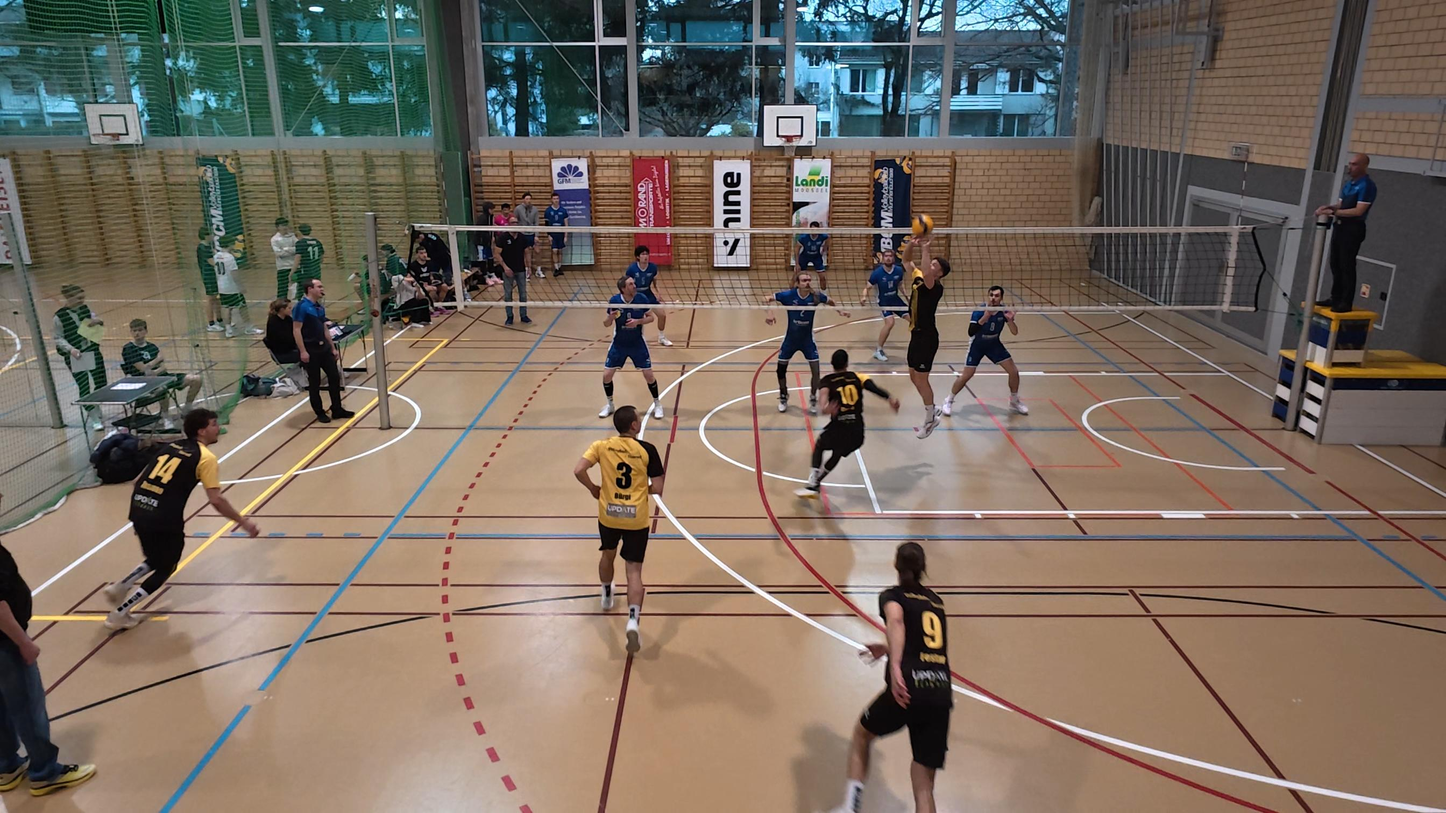Player: (102, 408, 260, 630), (843, 542, 954, 812), (576, 405, 665, 654), (796, 348, 899, 502), (944, 286, 1029, 416), (765, 272, 839, 415), (598, 275, 665, 419), (862, 246, 910, 363), (625, 245, 672, 346), (793, 219, 831, 297)
Set: (897, 227, 955, 439)
ball: (911, 213, 934, 232)
